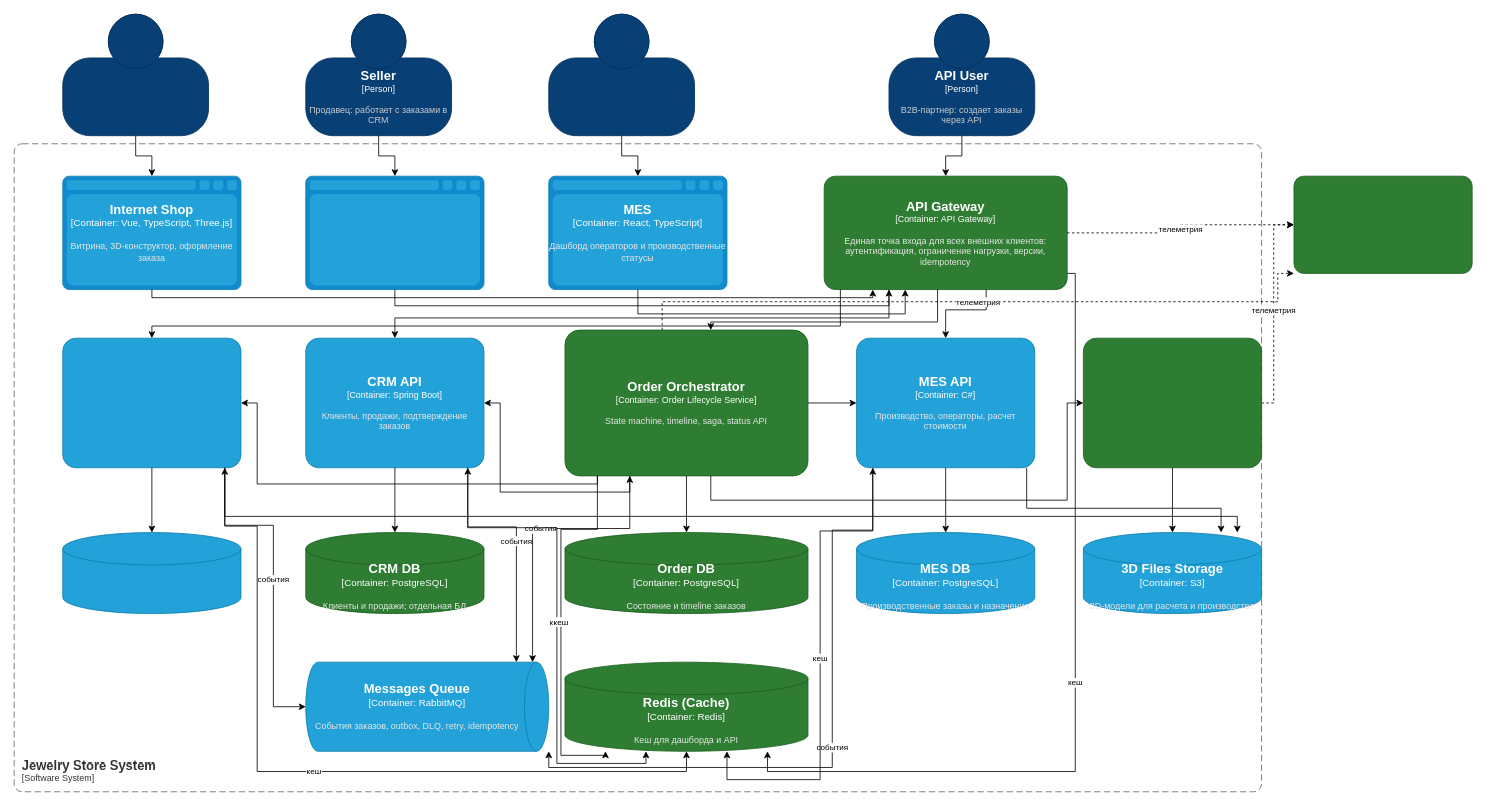
Some shapes in this 1486 by 806 pixel diagram are drawn without their labels. Here are the shapes that lost their labels. From the top down, the centre of each, then its label:
At (x=135, y=74): "Customer [Person] Покупатель B2C: выбирает изделие и оформляет заказ".
At (x=621, y=74): "Operator [Person] Оператор: берет заказы в работу в MES".
At (x=394, y=232): "CRM [Container: Vue, TypeScript] Интерфейс продавцов для работы с заказами".
At (x=1382, y=224): "Observability [Container: Metrics, Logs, Traces] Метрики, логи, трейсы, алерты".
At (x=151, y=402): "Shop API [Container: Spring Boot] Каталог, корзина, прием 3D-файлов, B2C-заказы".
At (x=1172, y=402): "Pricing Workers [Container: Async Workers] Асинхронный расчет 3D, очередь, кеш".
At (x=151, y=573): "Shop DB [Container: PostgreSQL] Каталог, корзина, данные B2C".
